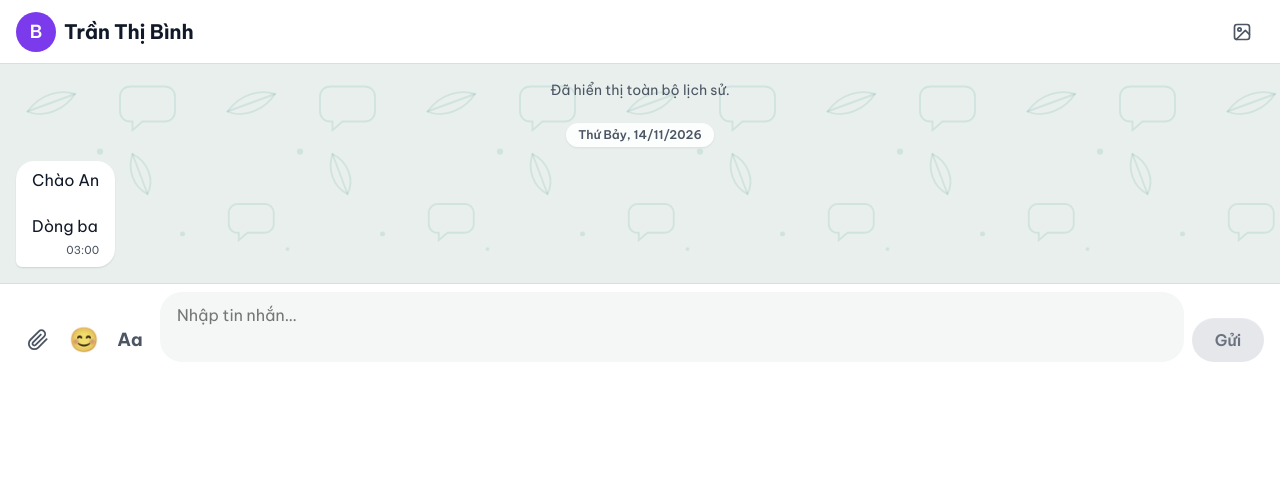
Test: SC-04 ChatPanel › gửi thất bại (không ack) → ⚠ Gửi lại với CÙNG clientMessageId
In the text box labelled "Nhập tin nhắn": point(672, 326) [160,292,1184,362], type "thử lại"
Then press Enter
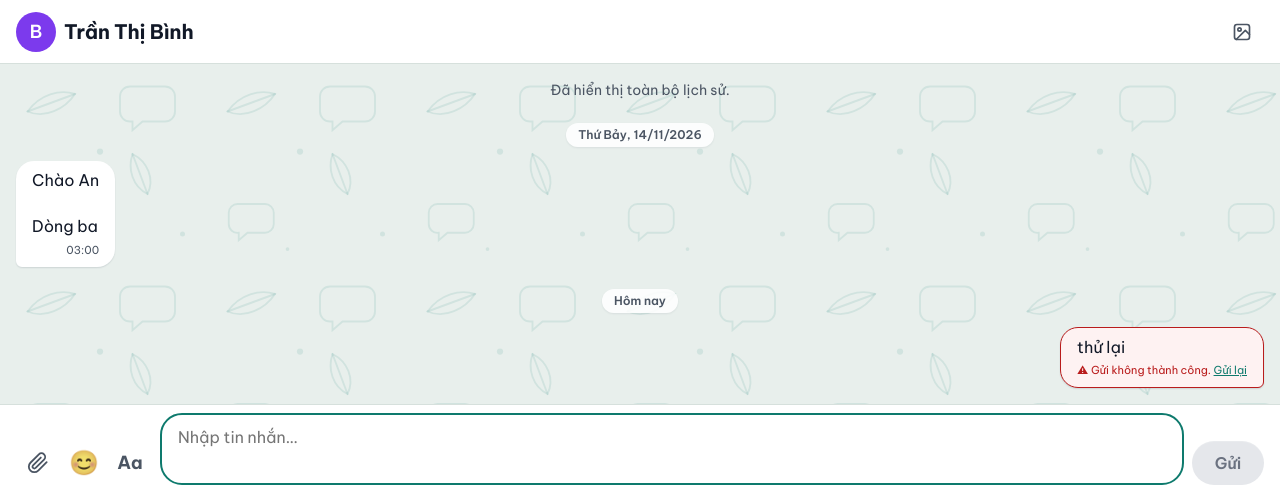
Click the button "Gửi lại": point(1230, 371) [1214,363,1247,379]
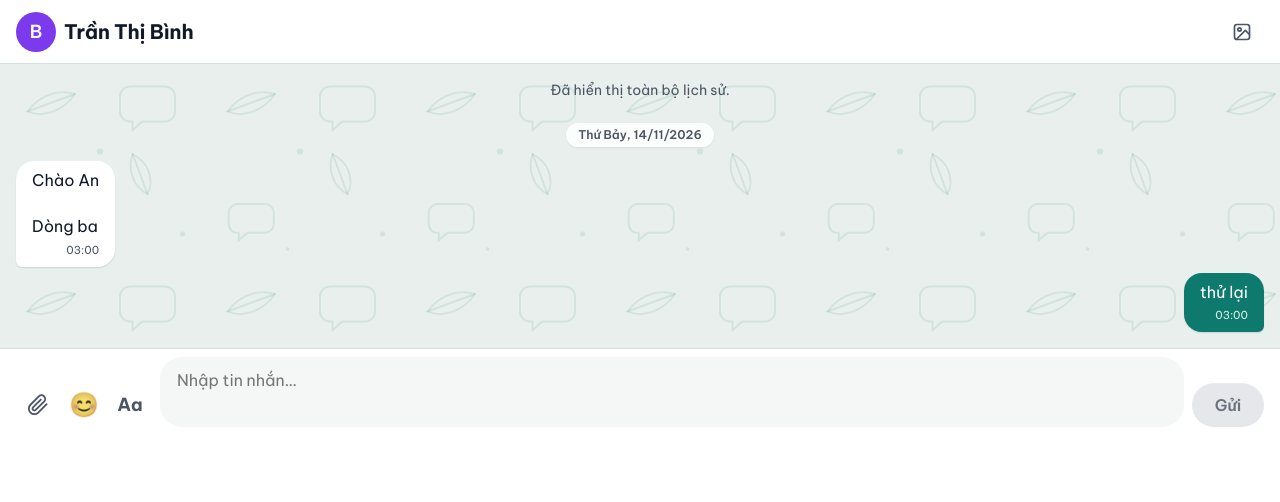
Expected: the button "Gửi lại" is gone
